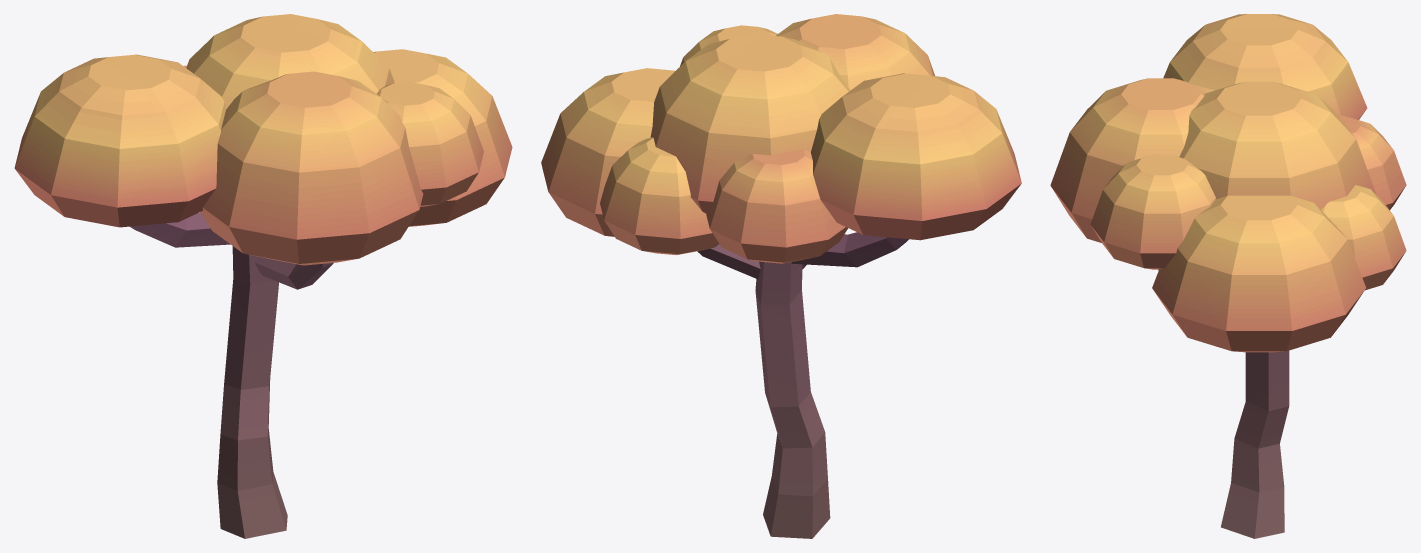
The model's file is pretty_big_tree_3.gltf.
3 renders of one model, left to right at view 1: azimuth 30°, elevation 25°; view 2: azimuth 150°, elevation 25°; view 3: azimuth 270°, elevation 25°, orthographic. The views are drawn at different scales.
Parts seen in each view (by area): view 1: Object_2; view 2: Object_2; view 3: Object_2.
Part boxes in pixels (box(x1,y1,x2,y2)): Object_2: box(14, 14, 512, 538); Object_2: box(541, 14, 1021, 538); Object_2: box(1050, 14, 1406, 538).
Size of the model in its own units: 15.11 by 15.16 by 10.99.
Materials: 1 (1 with a texture image).
